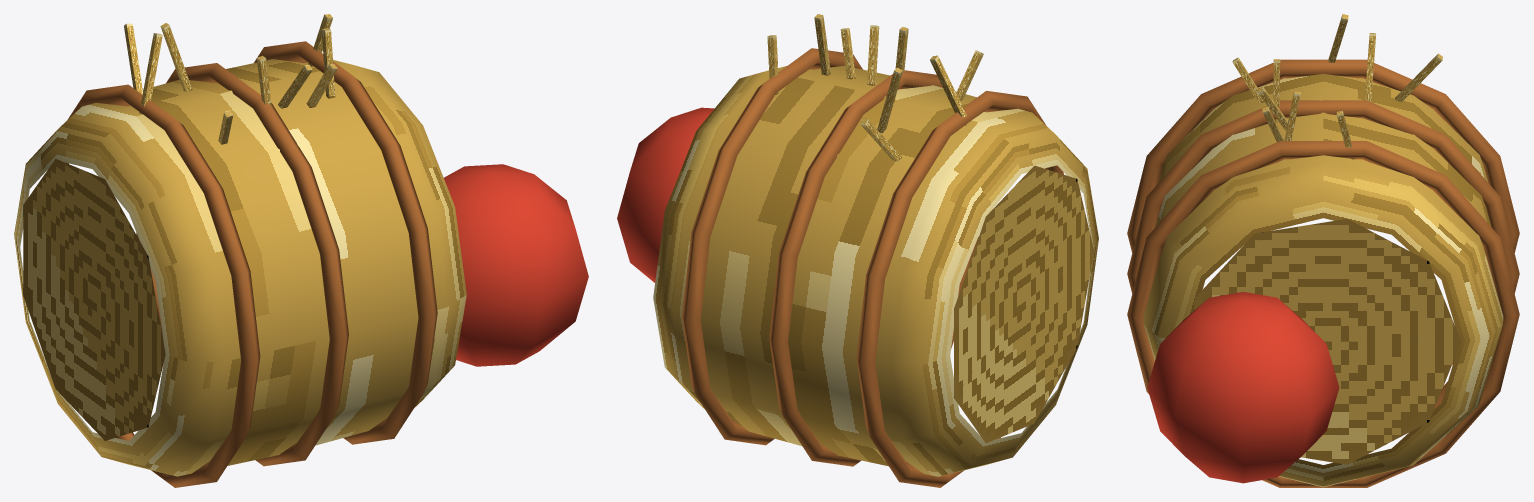
Rendered from letrero-abarrotes.glb.
3 renders of one model, left to right at view 1: azimuth 30°, elevation 25°; view 2: azimuth 150°, elevation 25°; view 3: azimuth 270°, elevation 25°, orthographic. The views are drawn at different scales.
Visible parts, largest first — view 1: letrero-abarrotes; view 2: letrero-abarrotes; view 3: letrero-abarrotes.
Part boxes in pixels (x1,y1,x2,y2): letrero-abarrotes: (14, 14, 588, 487); letrero-abarrotes: (617, 14, 1098, 487); letrero-abarrotes: (1127, 14, 1519, 487).
Bounding box in the file's own units: 0.3003 × 0.2753 × 0.245.
Materials: 4 (2 with a texture image).
